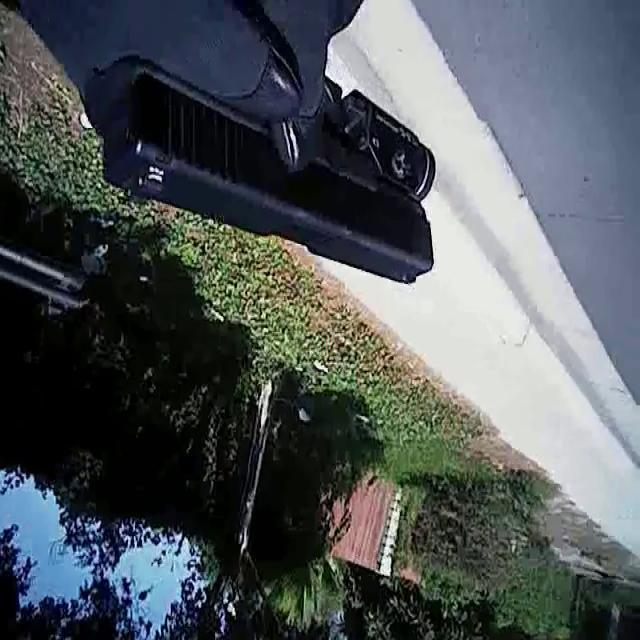gun: (67, 0, 453, 320)
